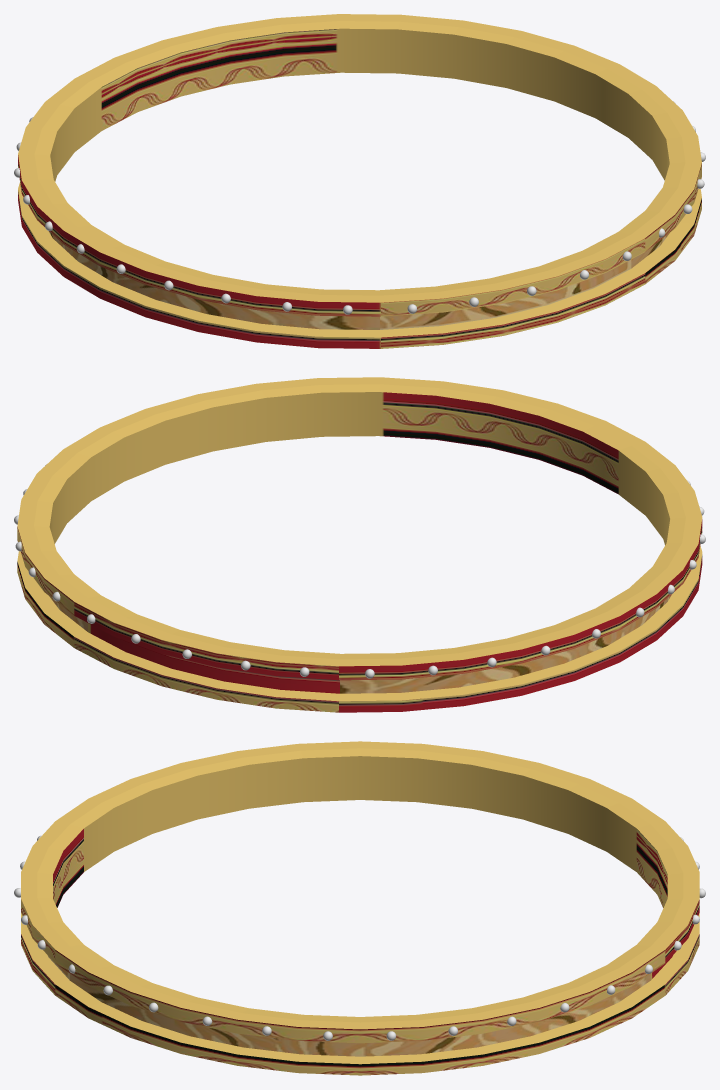
File: Orbit.fbx
3 renders of one model, top to bottom at view 1: azimuth 30°, elevation 25°; view 2: azimuth 150°, elevation 25°; view 3: azimuth 270°, elevation 25°, orthographic.
Visible parts, largest first — view 1: pPipe2; view 2: pPipe2; view 3: pPipe2.
Part boxes in pixels (left/top/right/bottom): pPipe2: left=14, top=14, right=705, bottom=348; pPipe2: left=14, top=377, right=705, bottom=712; pPipe2: left=14, top=741, right=705, bottom=1075.
Size of the model in its own units: 16.75 by 1.24 by 16.85.
